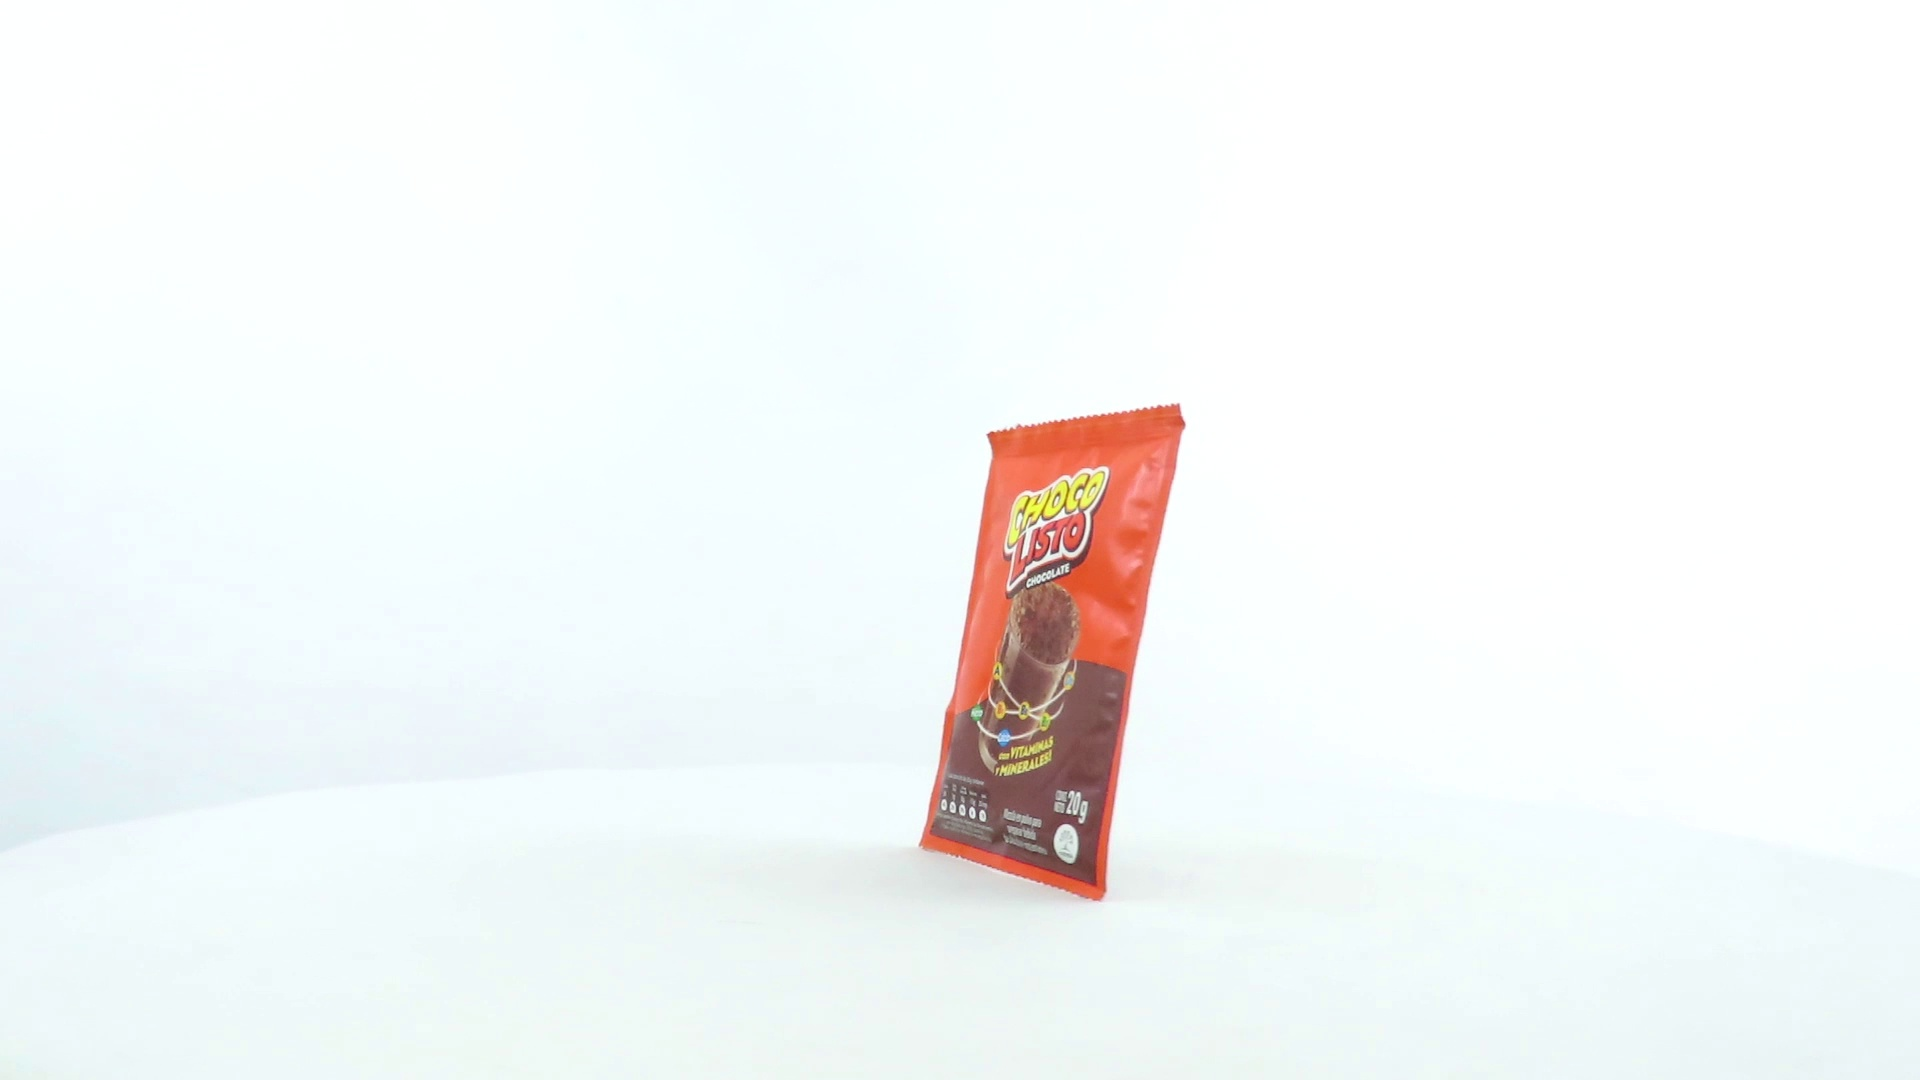COL0170103SOB02000: (913, 398, 1192, 907)
